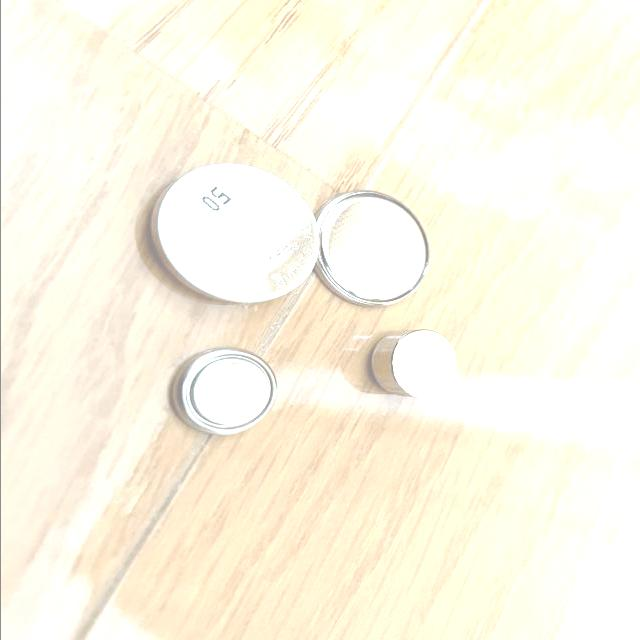COIN: (147, 159, 319, 305), (307, 190, 431, 308), (166, 346, 277, 440), (366, 330, 456, 402)
